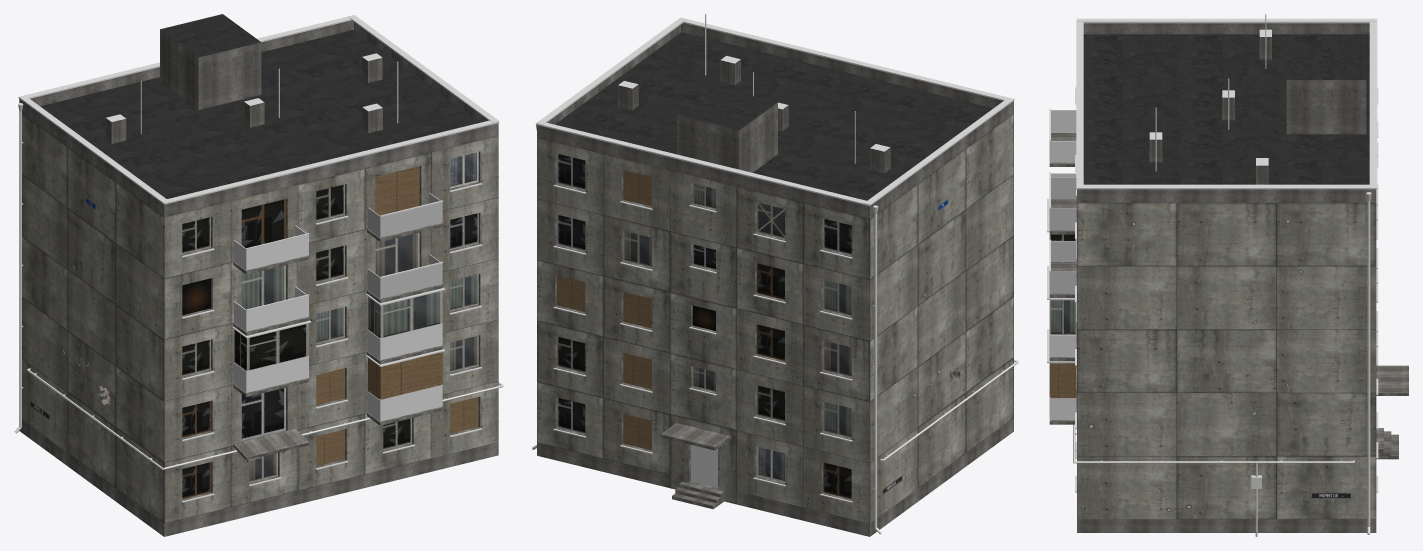
3 renders of one model, left to right at view 1: azimuth 30°, elevation 25°; view 2: azimuth 150°, elevation 25°; view 3: azimuth 270°, elevation 25°, orthographic. The views are drawn at different scales.
Parts seen in each view (by area): view 1: S1U_KH_A; view 2: S1U_KH_A; view 3: S1U_KH_A.
Boxes of the visible parts, x1,y1,x2,y2 form: S1U_KH_A: [14, 14, 503, 536]; S1U_KH_A: [532, 14, 1018, 536]; S1U_KH_A: [1047, 14, 1408, 536].
Size of the model in its own units: 16.79 by 17.51 by 14.5.
